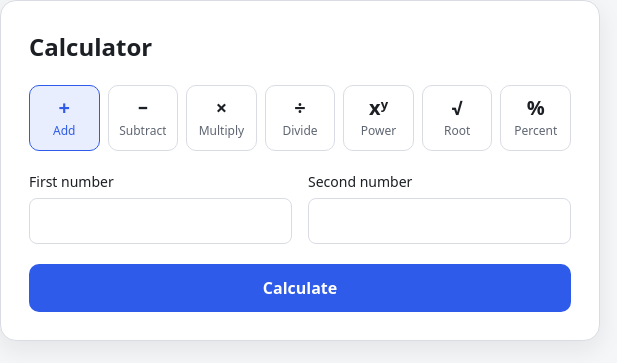
Test: Calculator › changes the fields when another operation is selected
What coordinates should you click on to do the following:
click the button "÷ Divide"
I would click on:
 (300, 118)
Its box is [265, 85, 335, 151].
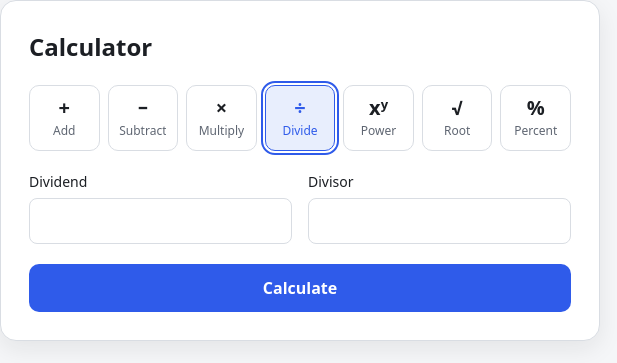
Expected: the number field labelled "Dividend" is shown, [29, 198, 292, 244]
Result: the button "÷ Divide" is pressed at [265, 85, 335, 151]
Result: the button "+ Add" is not pressed at [29, 85, 100, 151]
What coordinates should you click on to do the following:
click the button "√ Root"
I would click on:
 (457, 118)
Its box is [422, 85, 492, 151].
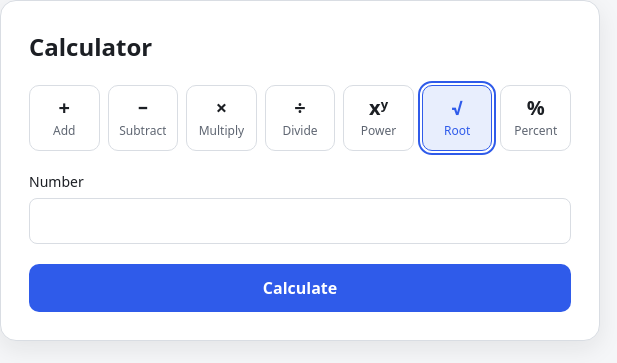
Result: the number of number fields is 1 at [29, 198, 571, 244]
